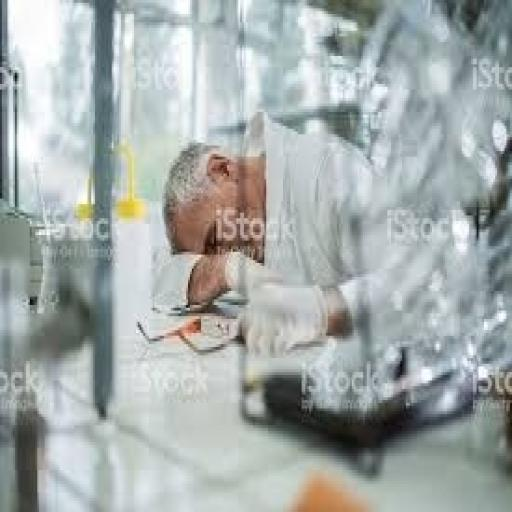sleeping: (157, 106, 510, 364)
